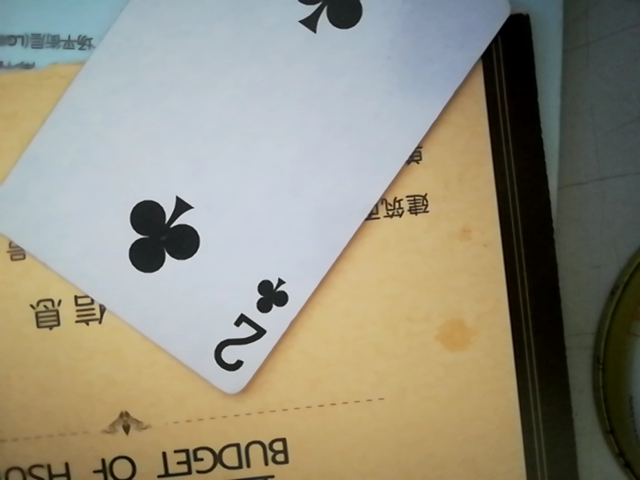mh 2: (0, 3, 548, 407)
